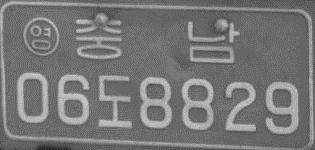0: (16, 71, 50, 124)
2: (224, 80, 257, 132)
6: (56, 73, 90, 125)
8: (138, 75, 172, 130), (180, 77, 214, 131)
9: (264, 80, 299, 134)
도: (96, 74, 133, 128)
영: (21, 16, 61, 57)
충남_D: (73, 16, 239, 63)
